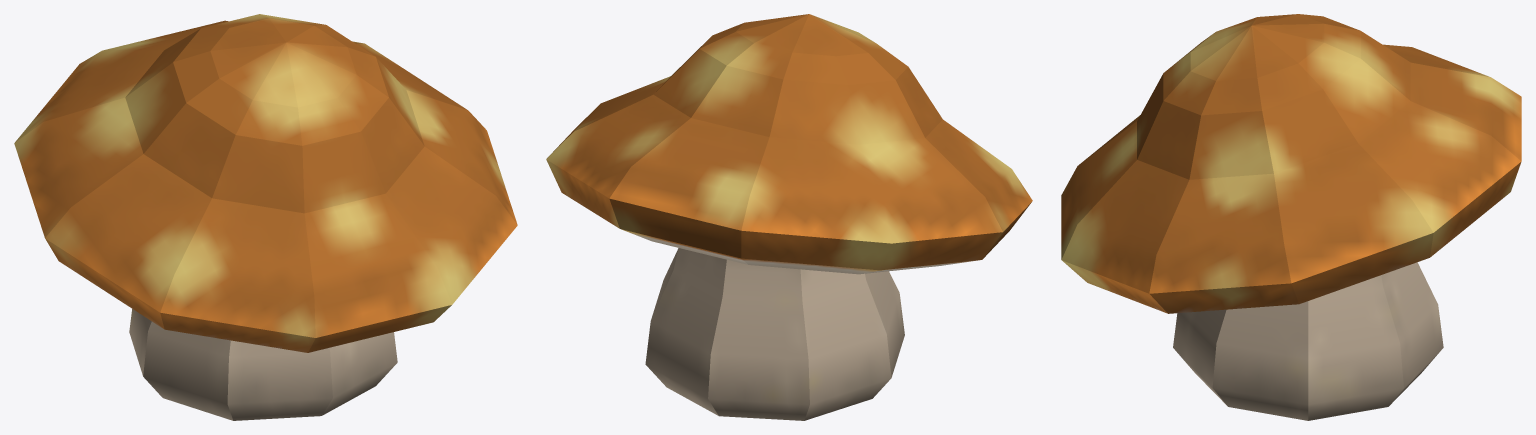
Rendered from Maple_MS.fbx.
3 views of the same model, side by side, from view 1: azimuth 30°, elevation 25°; view 2: azimuth 150°, elevation 25°; view 3: azimuth 270°, elevation 25° (orthographic). The views are drawn at different scales.
Visible parts, largest first — view 1: pSphere11; view 2: pSphere11; view 3: pSphere11.
Boxes of the visible parts, box(x1,y1,x2,y2) form: pSphere11: box(14, 14, 517, 420); pSphere11: box(546, 14, 1032, 420); pSphere11: box(1061, 14, 1521, 420).
Size of the model in its own units: 59.9 by 45.81 by 55.44.
